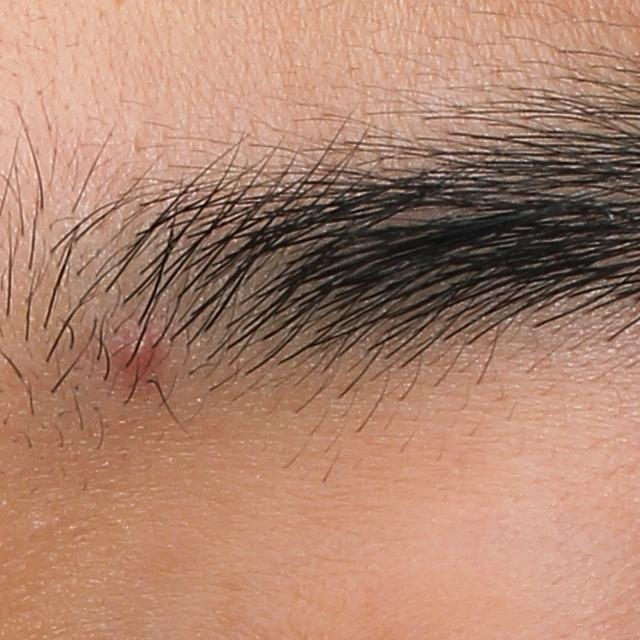papule: (106, 314, 155, 392)
